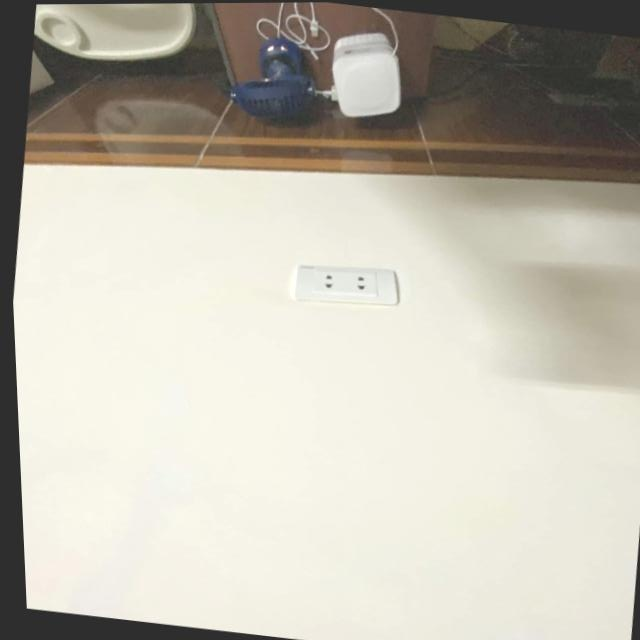outlet: (292, 257, 404, 313)
